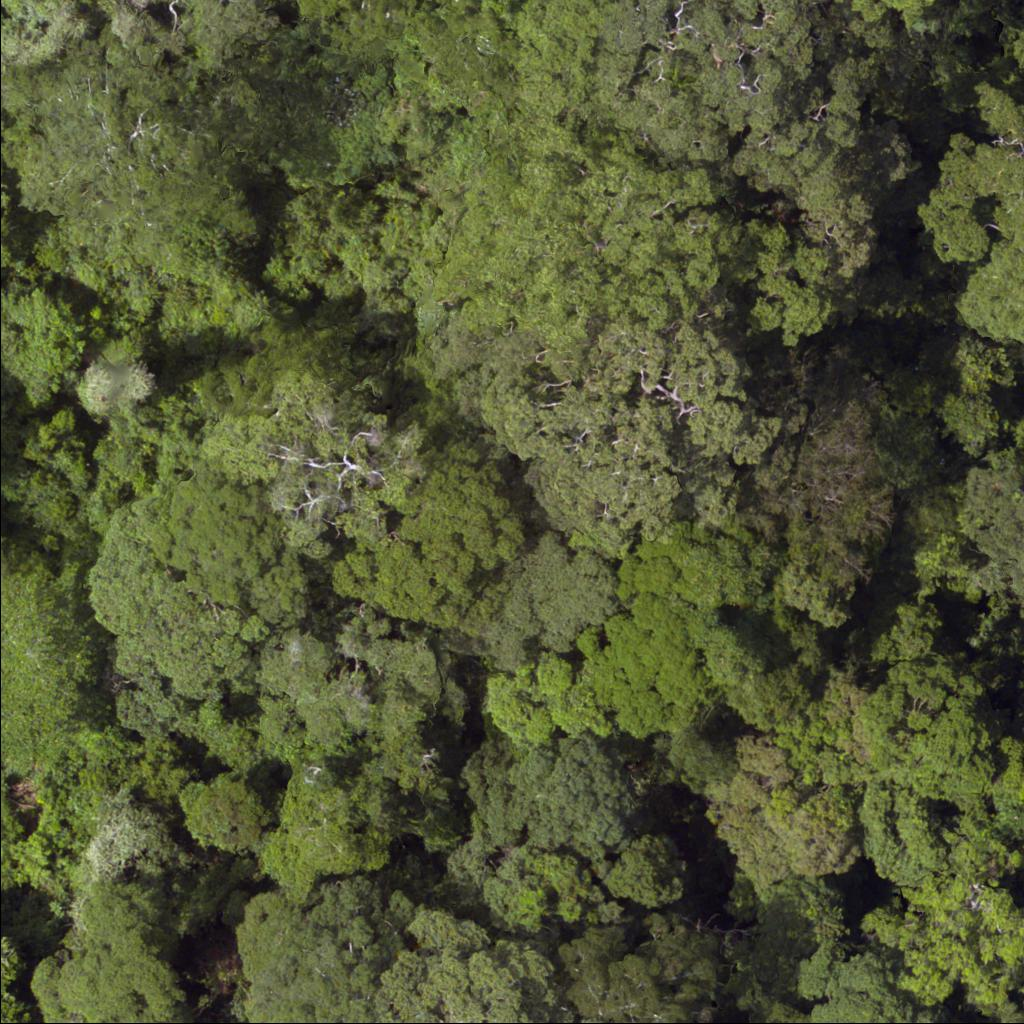crown: (433, 317, 782, 549), (591, 0, 878, 277), (94, 510, 265, 731), (336, 444, 519, 632), (224, 391, 418, 539), (917, 81, 1023, 350), (857, 870, 1023, 1010), (580, 559, 702, 732), (241, 890, 399, 1023), (457, 747, 624, 869), (35, 890, 178, 1023), (375, 917, 550, 1023), (483, 539, 611, 665), (0, 581, 81, 769), (155, 478, 274, 599), (566, 926, 713, 1023), (75, 799, 186, 914), (793, 944, 932, 1023), (490, 657, 607, 740), (490, 853, 612, 924), (967, 468, 1023, 597), (184, 775, 267, 847), (609, 841, 671, 898), (251, 556, 302, 623), (833, 0, 939, 23), (993, 1002, 1023, 1023), (1009, 30, 1023, 67), (586, 1023, 586, 1023)
